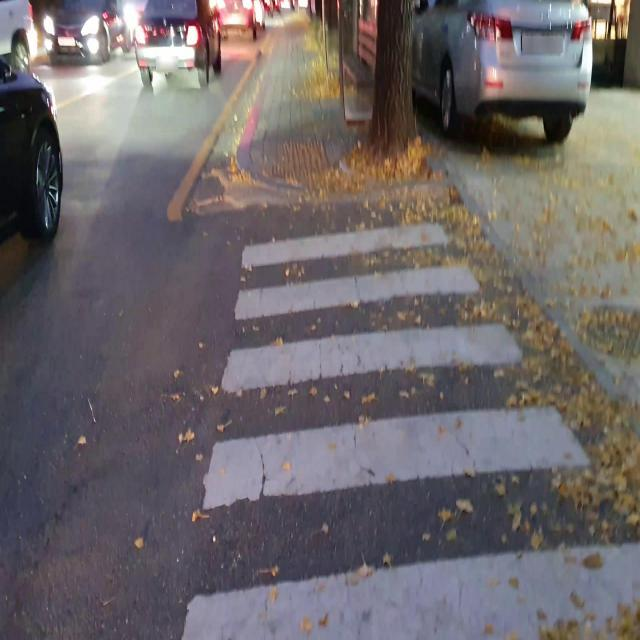crosswalk: (184, 220, 640, 640)
